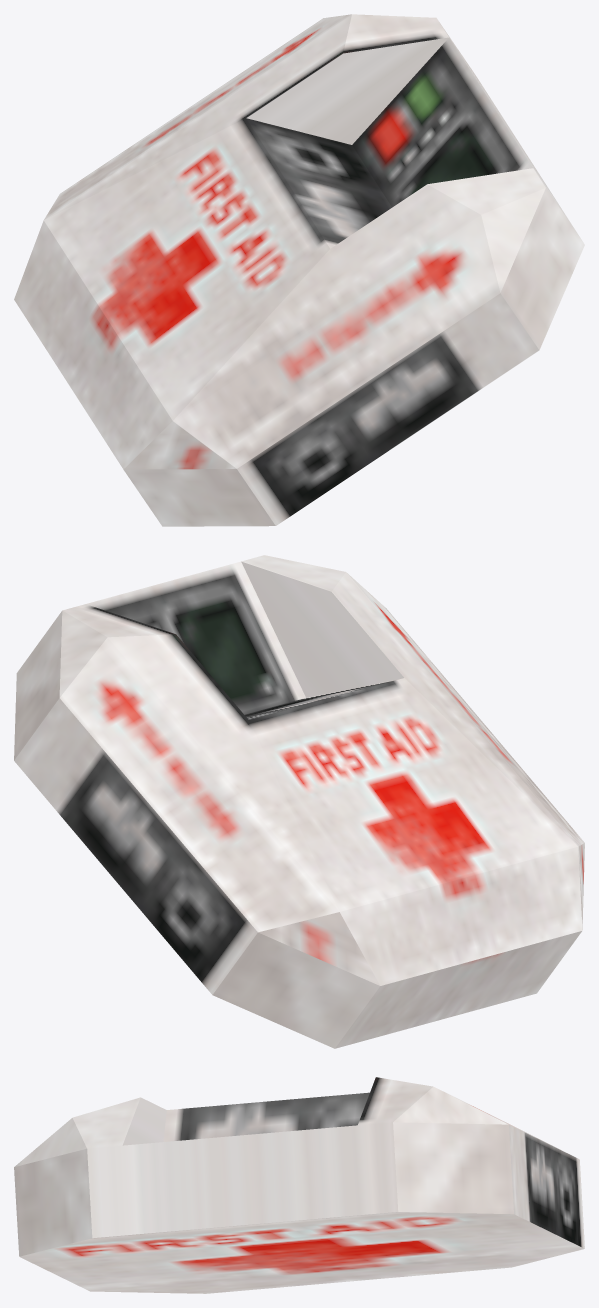
The model's file is p_medkit2.glb.
3 views of the same model, one above another, from view 1: azimuth 30°, elevation 25°; view 2: azimuth 150°, elevation 25°; view 3: azimuth 270°, elevation 25° (orthographic). The views are drawn at different scales.
Parts seen in each view (by area): view 1: p_medkit2; view 2: p_medkit2; view 3: p_medkit2.
Boxes of the visible parts, x1,y1,x2,y2 form: p_medkit2: [14, 14, 584, 526]; p_medkit2: [14, 555, 584, 1048]; p_medkit2: [14, 1077, 584, 1293].
Size of the model in its own units: 11.75 by 8.84 by 12.88.
1 material, 1 textured.
